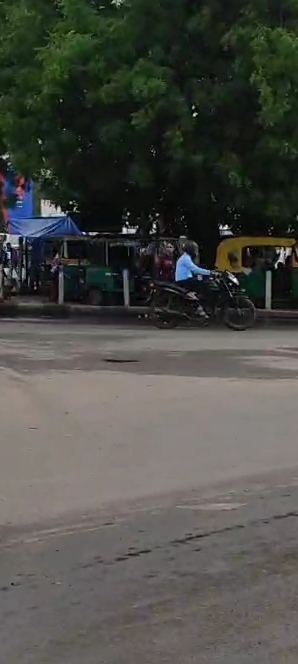BikeWithRider: (134, 235, 262, 335)
Helmet: (177, 236, 202, 261)
